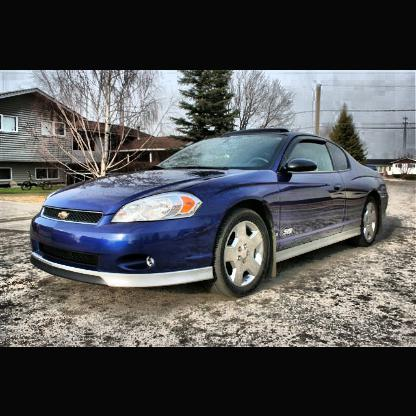Chevrolet Monte Carlo Coupe 2007: (30, 126, 390, 300)
